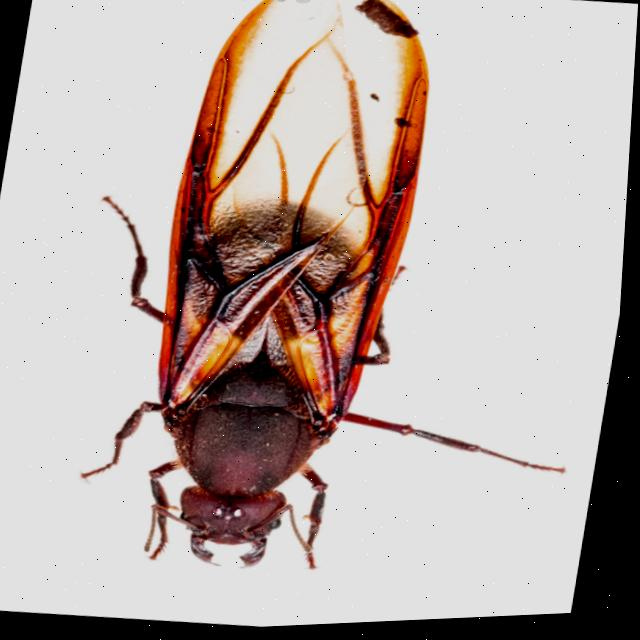Alive-Female-Alate: (47, 0, 640, 611)
